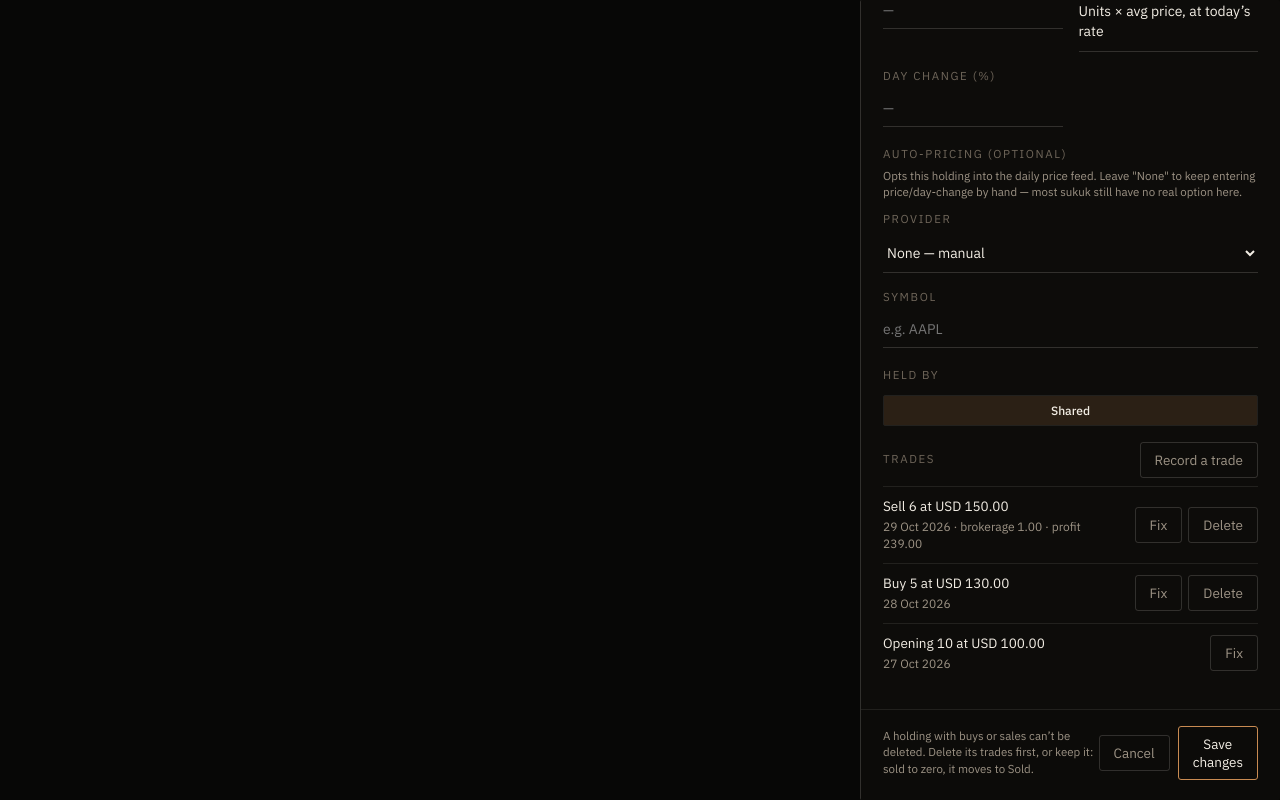
Test: a holding's trades › leaves the fund out of the question when the delete moves no money
(page scrolled)
Click the button with aria-label "Delete Buy 5 at USD 130.00" at (1223, 593), box [1188,575,1258,611]
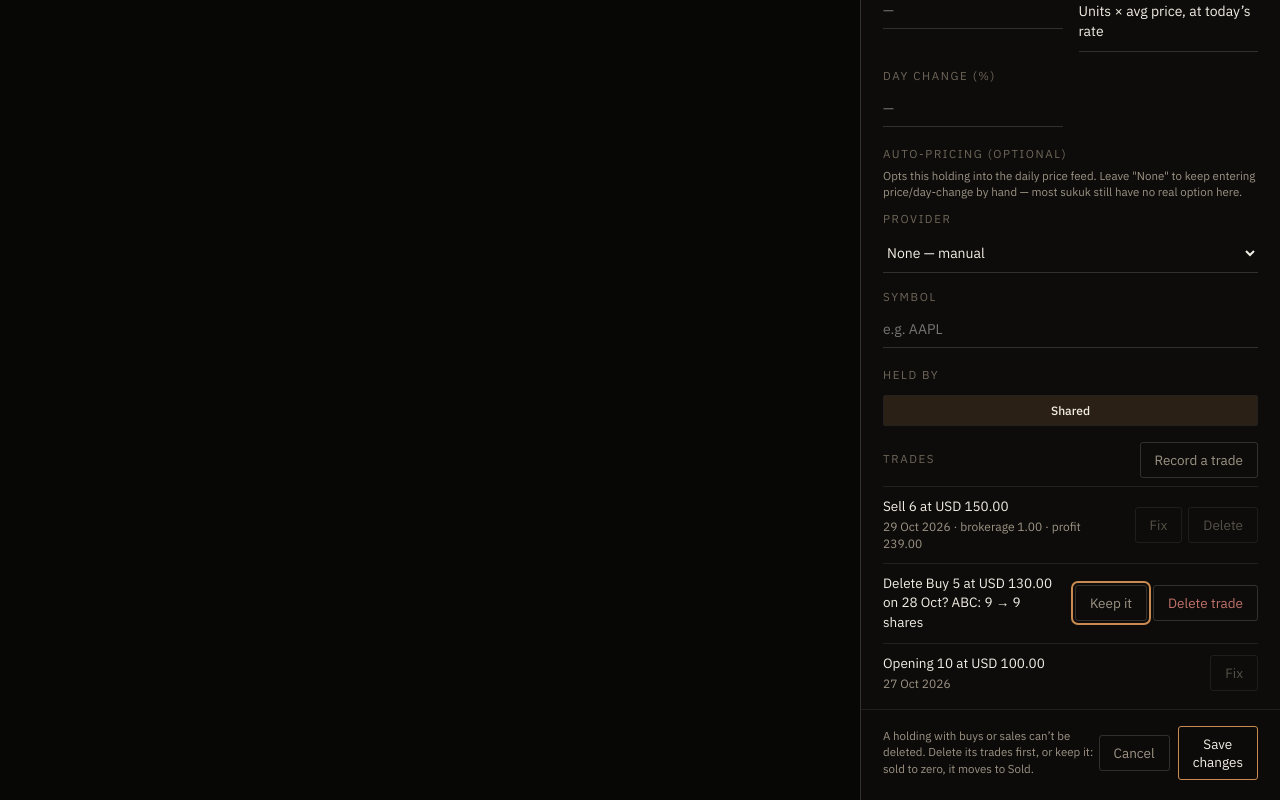
Result: the text "Delete Buy 5 at USD 130.00 on 28 Oct? ABC: 9 → 9 shares" is shown at [883,574,1063,633]
